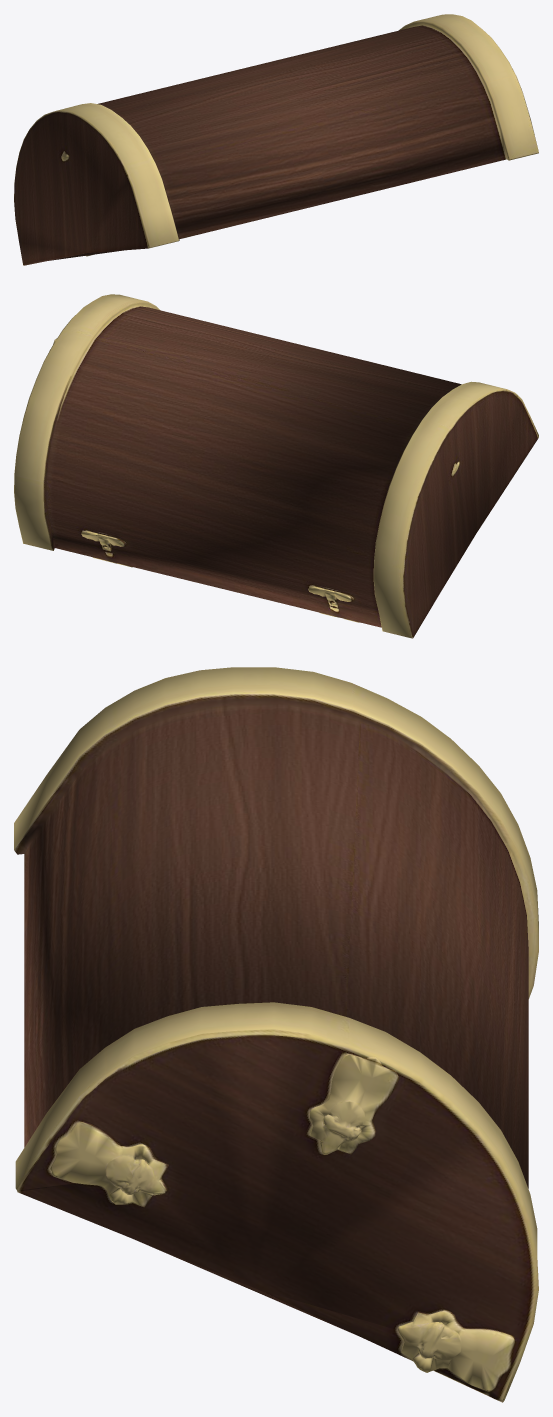
Rendered from chest_top.glb.
3 views of the same model, one above another, from view 1: azimuth 30°, elevation 25°; view 2: azimuth 150°, elevation 25°; view 3: azimuth 270°, elevation 25° (orthographic). The views are drawn at different scales.
Parts seen in each view (by area): view 1: ChestTop; view 2: ChestTop; view 3: ChestTop.
Boxes of the visible parts, bbox=[...] form: ChestTop: bbox=[14, 14, 538, 265]; ChestTop: bbox=[14, 294, 538, 638]; ChestTop: bbox=[14, 667, 538, 1402].
Bounding box in the file's own units: 0.998 × 0.4707 × 0.5957.
Materials: 1 (1 with a texture image).
